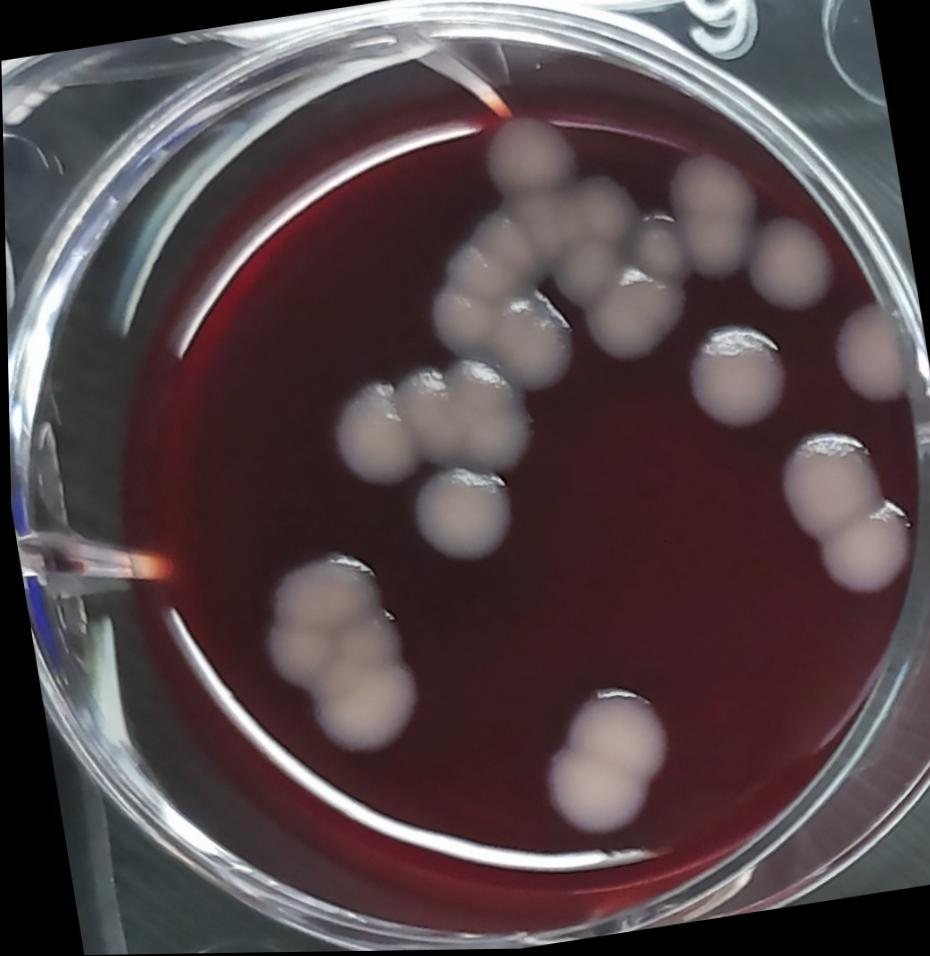bcereus: (243, 538, 427, 778), (768, 420, 924, 616), (527, 671, 681, 850), (415, 193, 579, 356), (416, 267, 583, 407), (395, 349, 542, 489), (672, 317, 799, 447), (658, 149, 766, 289), (404, 462, 523, 577), (314, 374, 416, 502), (574, 262, 693, 371), (467, 104, 582, 209), (736, 215, 842, 326), (824, 299, 919, 418), (555, 166, 645, 255), (616, 206, 700, 293), (542, 230, 628, 311)
